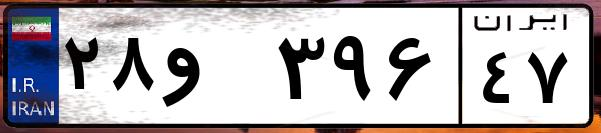2: (57, 26, 110, 100)
3: (270, 28, 330, 110)
4: (475, 38, 525, 113)
6: (385, 28, 445, 110)
7: (525, 38, 570, 115)
8: (110, 28, 158, 98)
9: (330, 28, 385, 110)
و: (158, 20, 270, 120)
